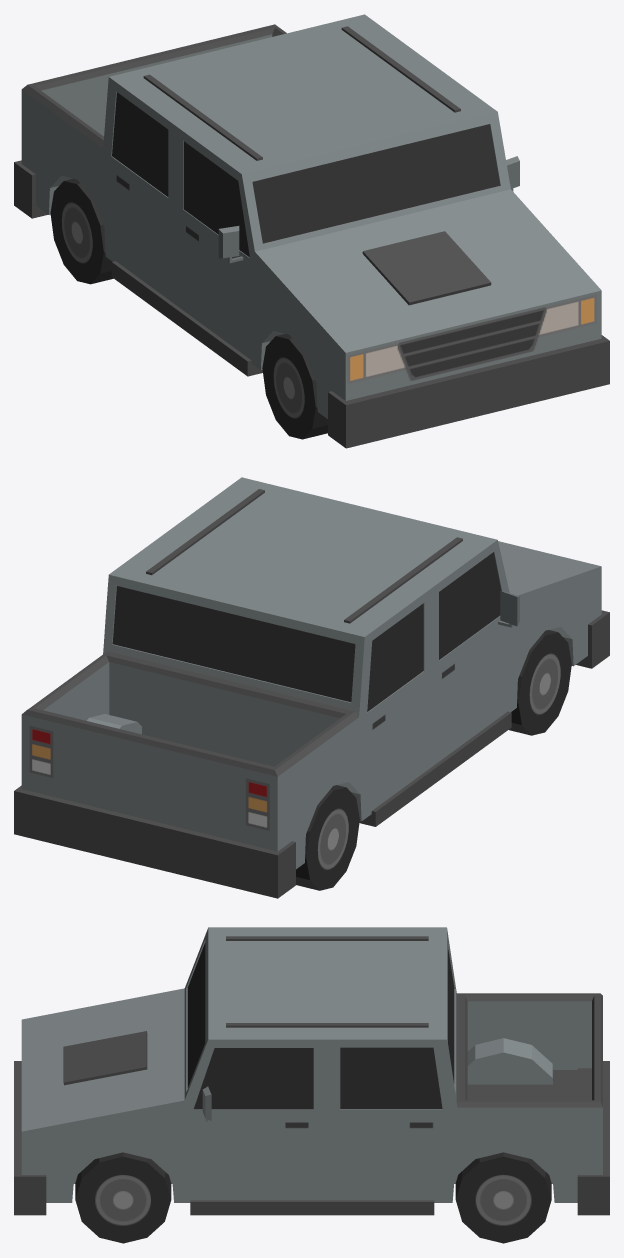
Rendered from vehicle-pick-up-truck-color02.glb.
The picture shows the model from 3 angles, top to bottom: view 1: azimuth 30°, elevation 25°; view 2: azimuth 150°, elevation 25°; view 3: azimuth 270°, elevation 25°; orthographic projection. The views are drawn at different scales.
Parts seen in each view (by area): view 1: model; view 2: model; view 3: model.
Part boxes in pixels (x1,y1,x2,y2): model: [14, 14, 609, 448]; model: [14, 477, 609, 898]; model: [14, 927, 609, 1243].
Bounding box in the file's own units: 3.1 × 2.27 × 5.97.
1 material, 1 textured.
